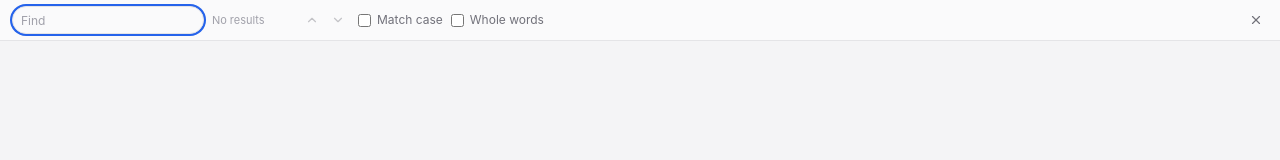
Test: FindBar › counts matches while typing and navigates between them
This screenshot has width=1280, height=160.
Type "cat" into the field labelled "Find" at coordinates (108, 20), box [12,6,204,34]
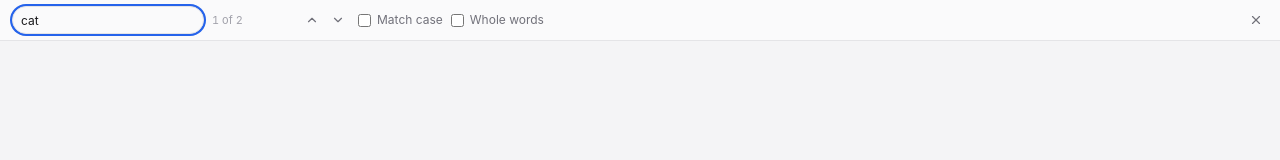
Result: the text with test id "find-count" reads "1 of 2" at [212,13,243,27]
Click the button named "Next match" at coordinates (338, 20), box [326,8,350,32]
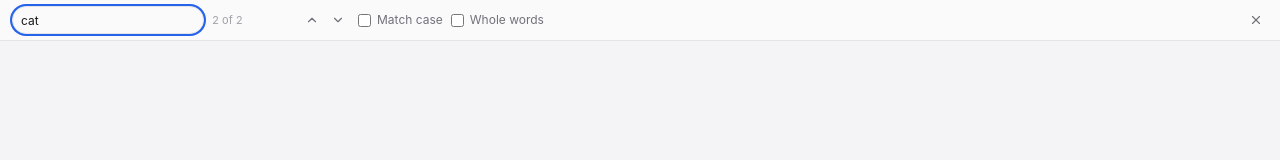
Result: the text with test id "find-count" reads "2 of 2" at [212,13,243,27]
Click the button named "Next match" at coordinates (338, 20), box [326,8,350,32]
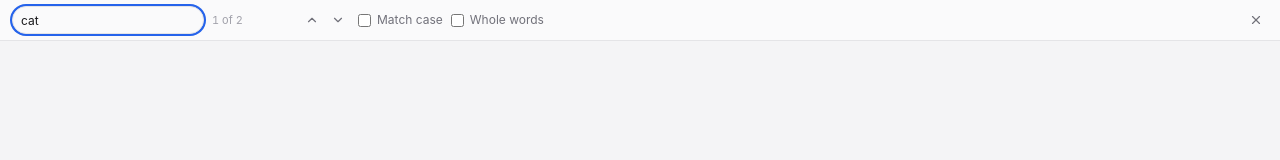
Result: the text with test id "find-count" reads "1 of 2" at [212,13,243,27]
Click the button named "Previous match" at coordinates (312, 20), box [300,8,324,32]
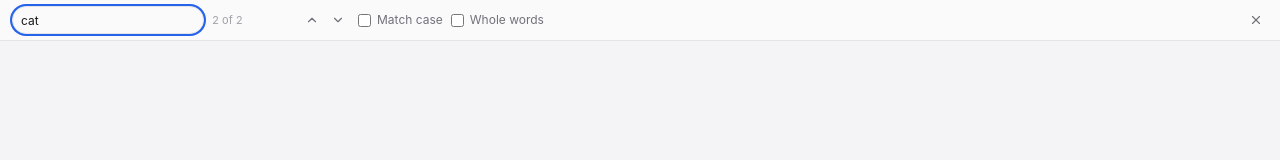
Result: the text with test id "find-count" reads "2 of 2" at [212,13,243,27]
